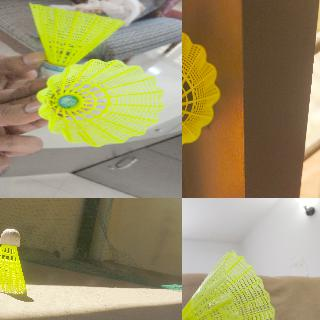shuttlecock: (37, 60, 163, 146), (28, 2, 124, 75), (182, 250, 277, 319), (182, 26, 219, 157), (0, 229, 26, 292)
